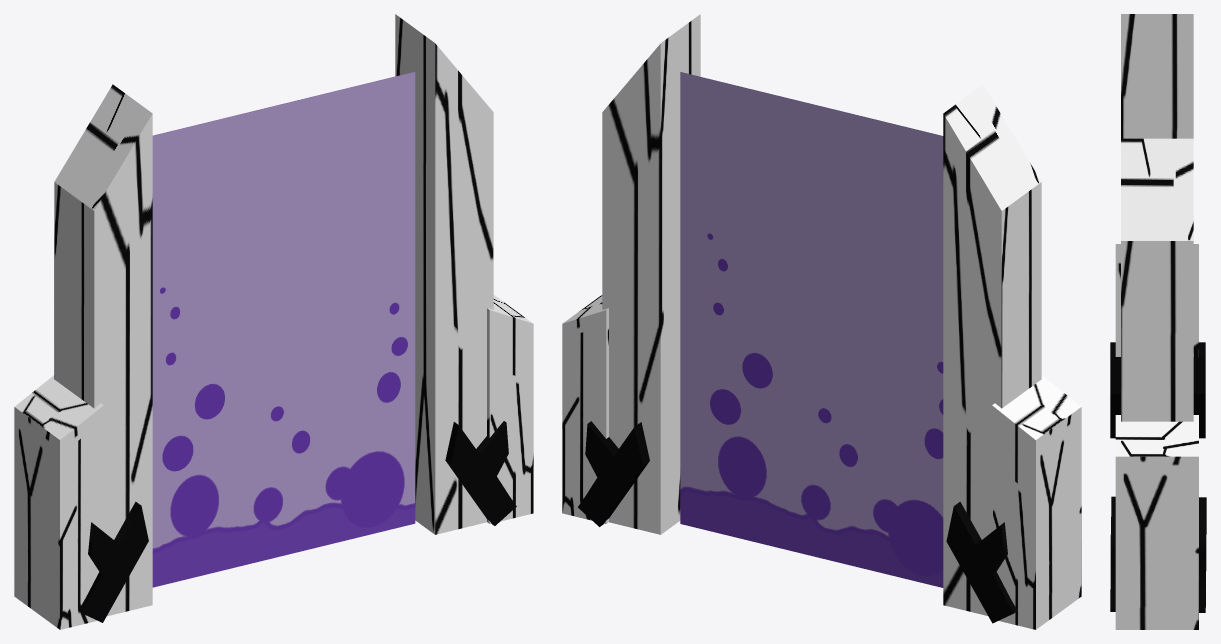
The model's file is WarpPortal.obj.
3 renders of one model, left to right at view 1: azimuth 30°, elevation 25°; view 2: azimuth 150°, elevation 25°; view 3: azimuth 270°, elevation 25°, orthographic. The views are drawn at different scales.
Parts seen in each view (by area): view 1: pPlane1, pCube8, pCube9, pCube10, pCube11, pCube6, pCube7; view 2: pPlane2, pCube8, pCube9, pCube10, pCube11, pCube7, pCube6; view 3: pCube9, pCube11, pCube8, pCube6, pCube7, pCube10.
Boxes of the visible parts, left/top/right/bottom form: pPlane1: left=152, top=72, right=415, bottom=587; pCube8: left=54, top=84, right=152, bottom=616; pCube9: left=395, top=14, right=493, bottom=534; pCube10: left=14, top=375, right=103, bottom=629; pCube11: left=487, top=295, right=533, bottom=523; pCube6: left=78, top=502, right=148, bottom=622; pCube7: left=445, top=421, right=516, bottom=525; pPlane2: left=680, top=72, right=943, bottom=587; pCube8: left=943, top=84, right=1041, bottom=615; pCube9: left=602, top=14, right=700, bottom=534; pCube10: left=992, top=375, right=1081, bottom=629; pCube11: left=562, top=295, right=608, bottom=523; pCube7: left=578, top=421, right=649, bottom=526; pCube6: left=946, top=502, right=1017, bottom=623; pCube9: left=1121, top=138, right=1193, bottom=421; pCube11: left=1115, top=415, right=1198, bottom=629; pCube8: left=1121, top=14, right=1193, bottom=138; pCube6: left=1110, top=342, right=1205, bottom=438; pCube7: left=1110, top=496, right=1206, bottom=612; pCube10: left=1115, top=244, right=1198, bottom=356.
Size of the model in its own units: 6.86 by 6.85 by 1.32.
Materials: 3 (3 with a texture image).
